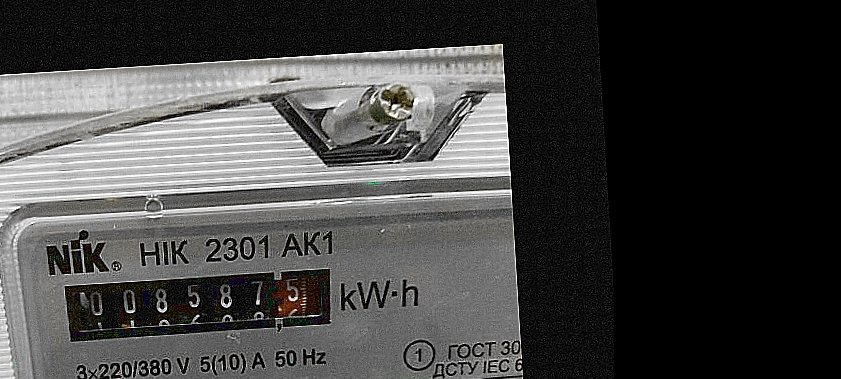0: (86, 286, 105, 316), (120, 285, 139, 314)
5: (284, 274, 303, 304), (184, 280, 203, 309)
7: (248, 276, 267, 307)
8: (216, 278, 235, 309), (152, 284, 170, 313)
screen: (45, 251, 352, 353)
